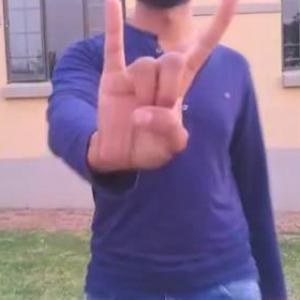takeoff-hand: (104, 0, 243, 171)
